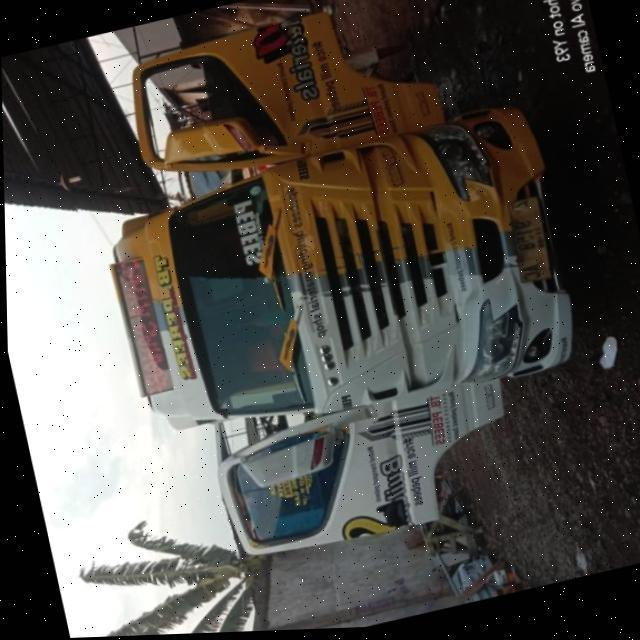truck: (65, 0, 622, 581)
